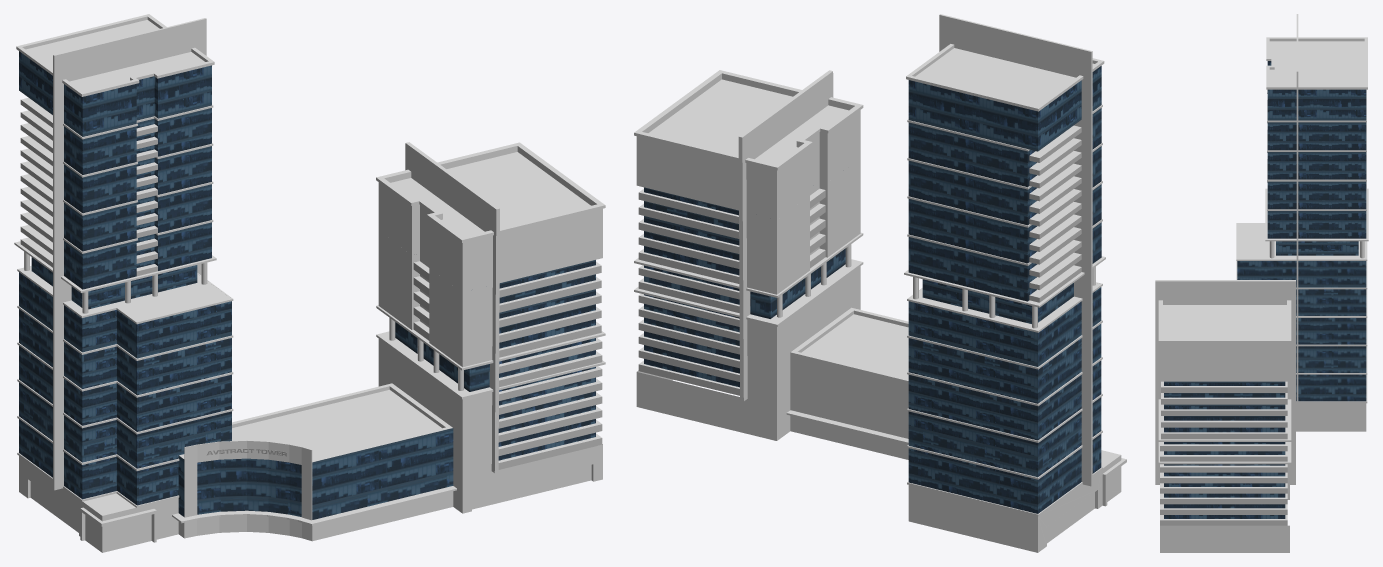
The model's file is AvstractTower_V1.fbx.
The picture shows the model from 3 angles, left to right: view 1: azimuth 30°, elevation 25°; view 2: azimuth 150°, elevation 25°; view 3: azimuth 270°, elevation 25°; orthographic projection. The views are drawn at different scales.
Parts seen in each view (by area): view 1: AvstractTower_V1_LOD0; view 2: AvstractTower_V1_LOD0; view 3: AvstractTower_V1_LOD0.
Boxes of the visible parts, bbox=[...] form: AvstractTower_V1_LOD0: bbox=[14, 14, 605, 552]; AvstractTower_V1_LOD0: bbox=[634, 14, 1126, 552]; AvstractTower_V1_LOD0: bbox=[1155, 14, 1368, 552].
Size of what is drawn, in the model's own units: 12226 by 11919 by 6313.
